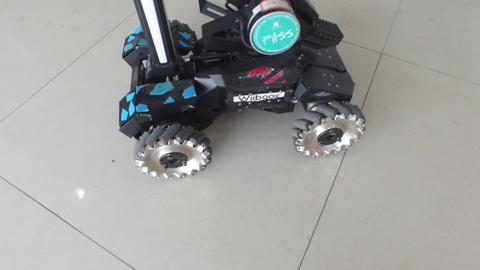chariot: (104, 11, 354, 165)
